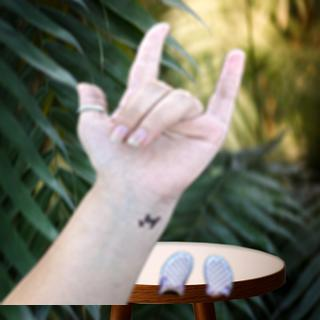ILY: (67, 19, 253, 206)
